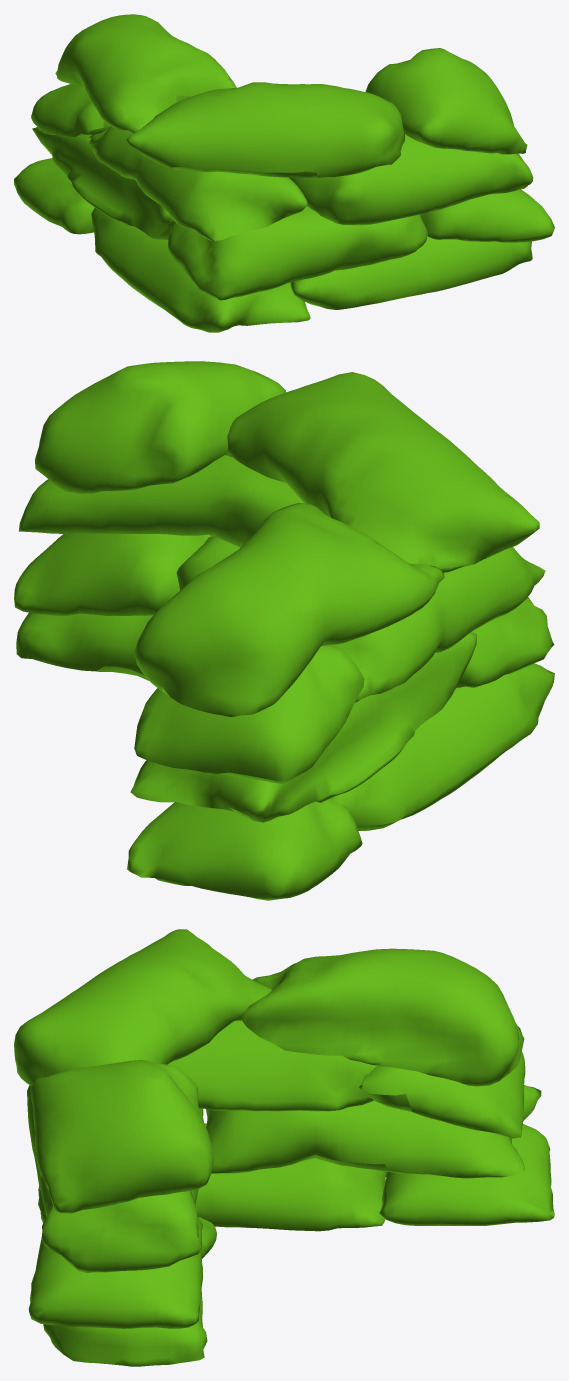
File: SM_Sandbags02.FBX
3 renders of one model, top to bottom at view 1: azimuth 30°, elevation 25°; view 2: azimuth 150°, elevation 25°; view 3: azimuth 270°, elevation 25°, orthographic. The views are drawn at different scales.
Parts seen in each view (by area): view 1: SM_Sandbags02; view 2: SM_Sandbags02; view 3: SM_Sandbags02.
Part boxes in pixels (bbox=[...]): SM_Sandbags02: bbox=[14, 14, 554, 332]; SM_Sandbags02: bbox=[14, 361, 554, 900]; SM_Sandbags02: bbox=[14, 929, 554, 1366].
Size of the model in its own units: 270 by 143 by 275.
